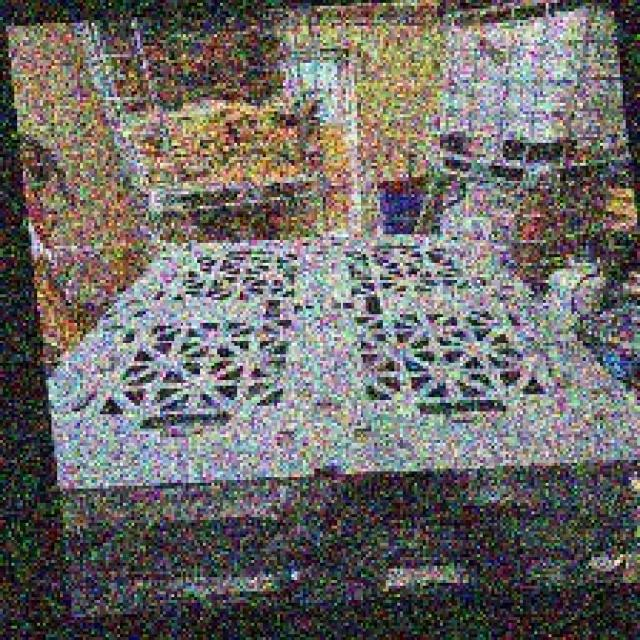igps: (39, 224, 640, 539), (55, 490, 640, 589), (56, 540, 640, 632)
